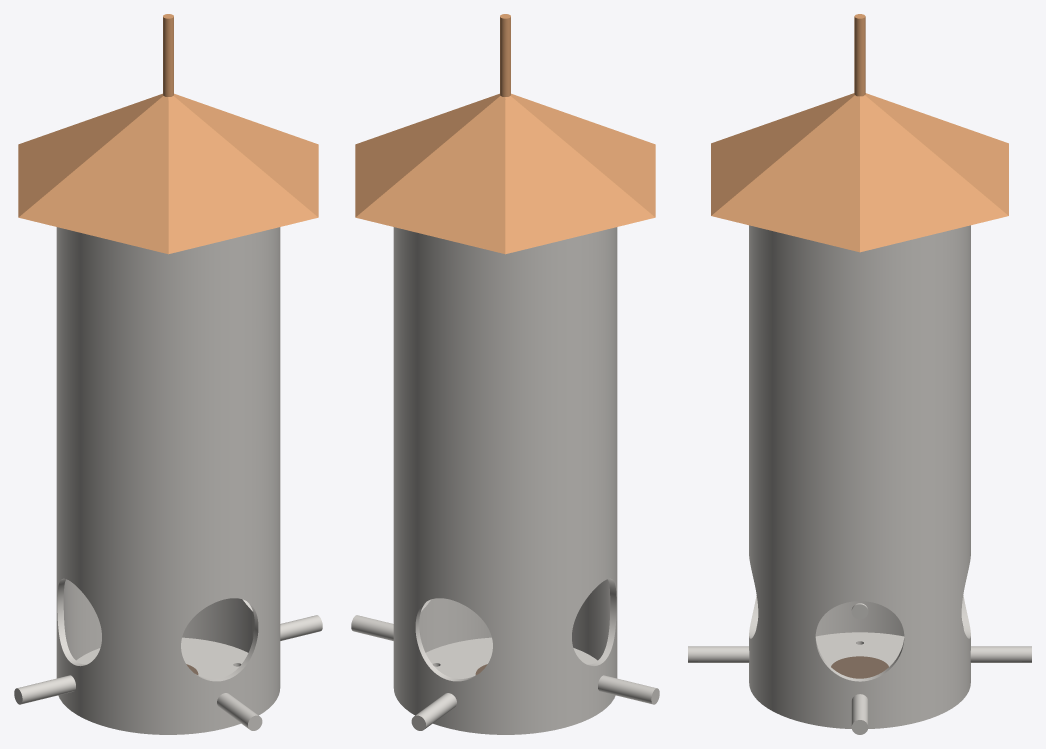
File: ukGardenBirds.gltf
3 renders of one model, left to right at view 1: azimuth 30°, elevation 25°; view 2: azimuth 150°, elevation 25°; view 3: azimuth 270°, elevation 25°, orthographic.
Bounding box in the file's own units: 0.124 × 0.272 × 0.124.
